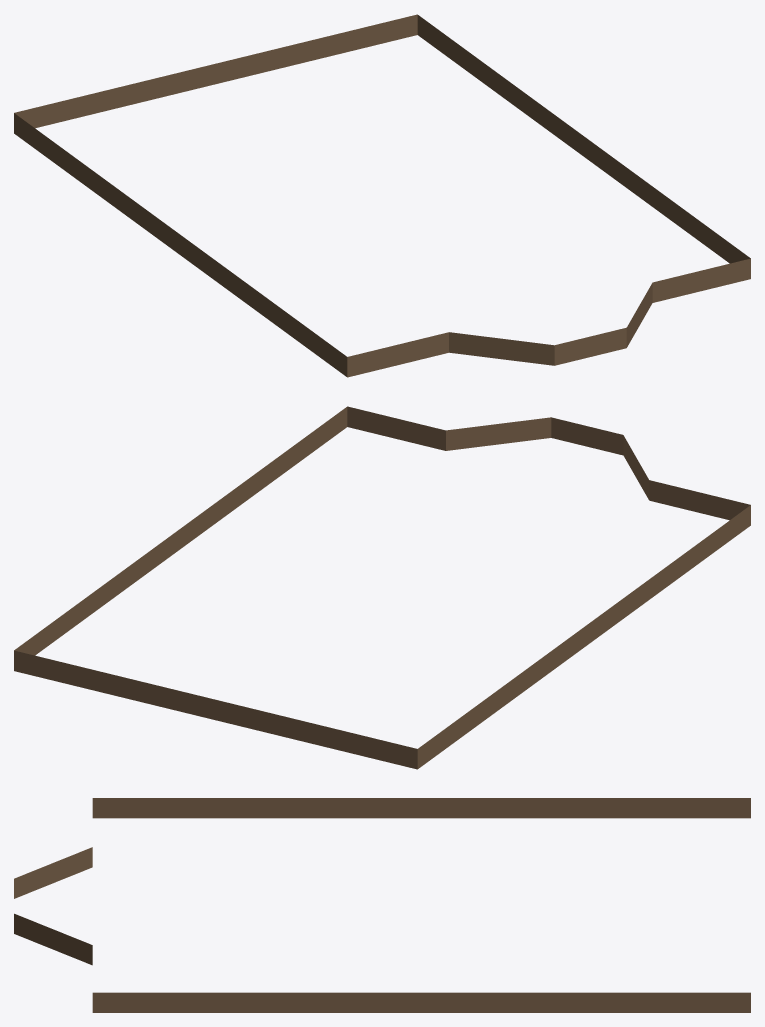
The model's file is fence.obj.
3 renders of one model, top to bottom at view 1: azimuth 30°, elevation 25°; view 2: azimuth 150°, elevation 25°; view 3: azimuth 270°, elevation 25°, orthographic.
Visible parts, largest first — view 1: wall; view 2: wall; view 3: wall.
Part boxes in pixels (box(x1,y1,x2,y2)): wall: box(14, 14, 750, 377); wall: box(14, 406, 750, 769); wall: box(14, 798, 750, 1012).
Bounding box in the file's own units: 1.23 × 0.06 × 1.97.
